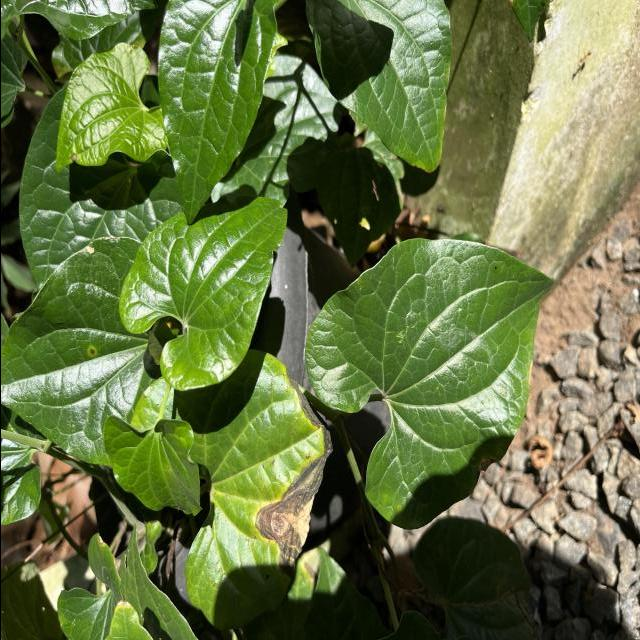Piper longum: (301, 236, 559, 534), (116, 192, 290, 392), (154, 0, 280, 229), (50, 40, 172, 178), (99, 414, 205, 519)
